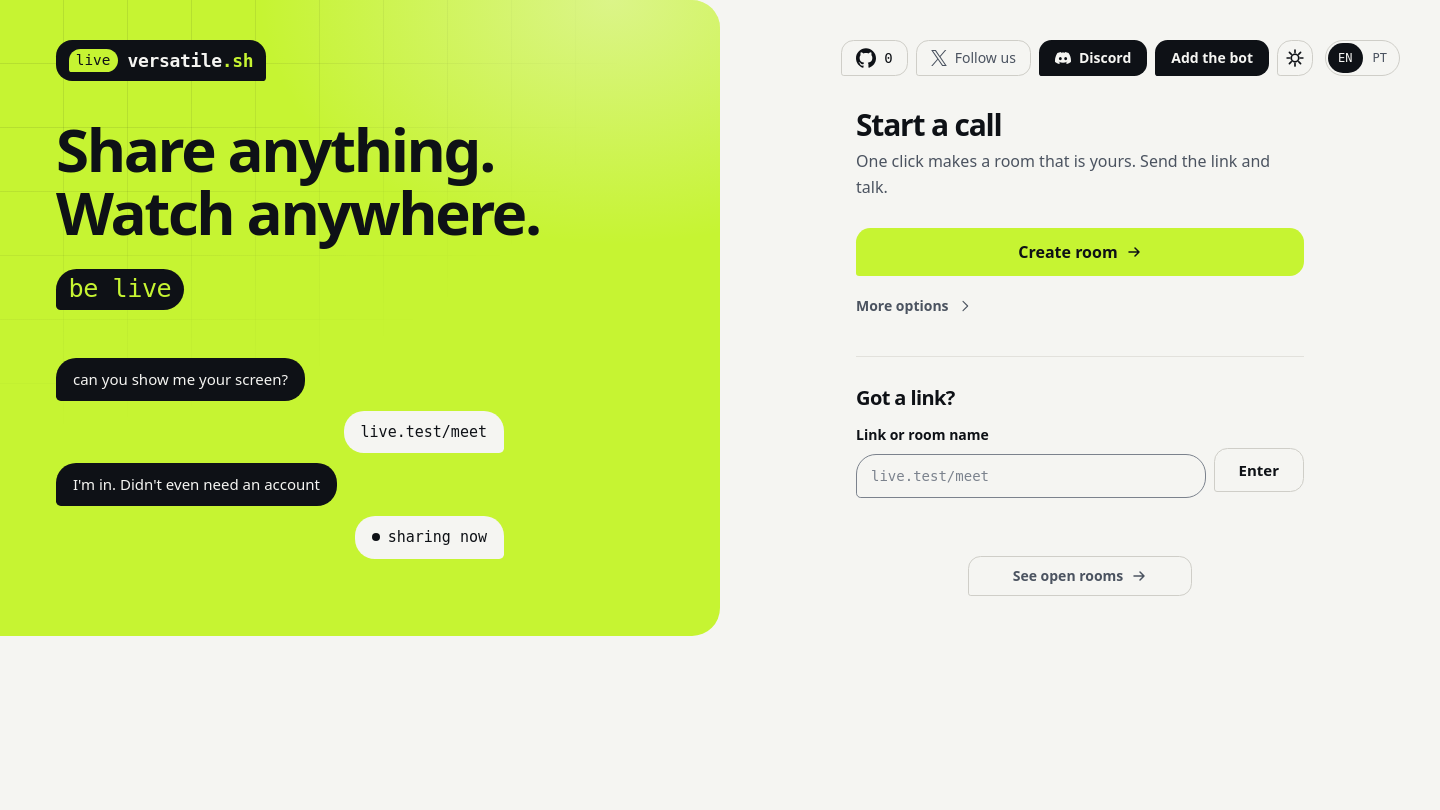
Scenario: HomePage › More options › hide on a second click of the toggle, which keeps focus
The image size is (1440, 810).
Step 1. Click the button "More options" → [914, 306], box [840,288,989,324]
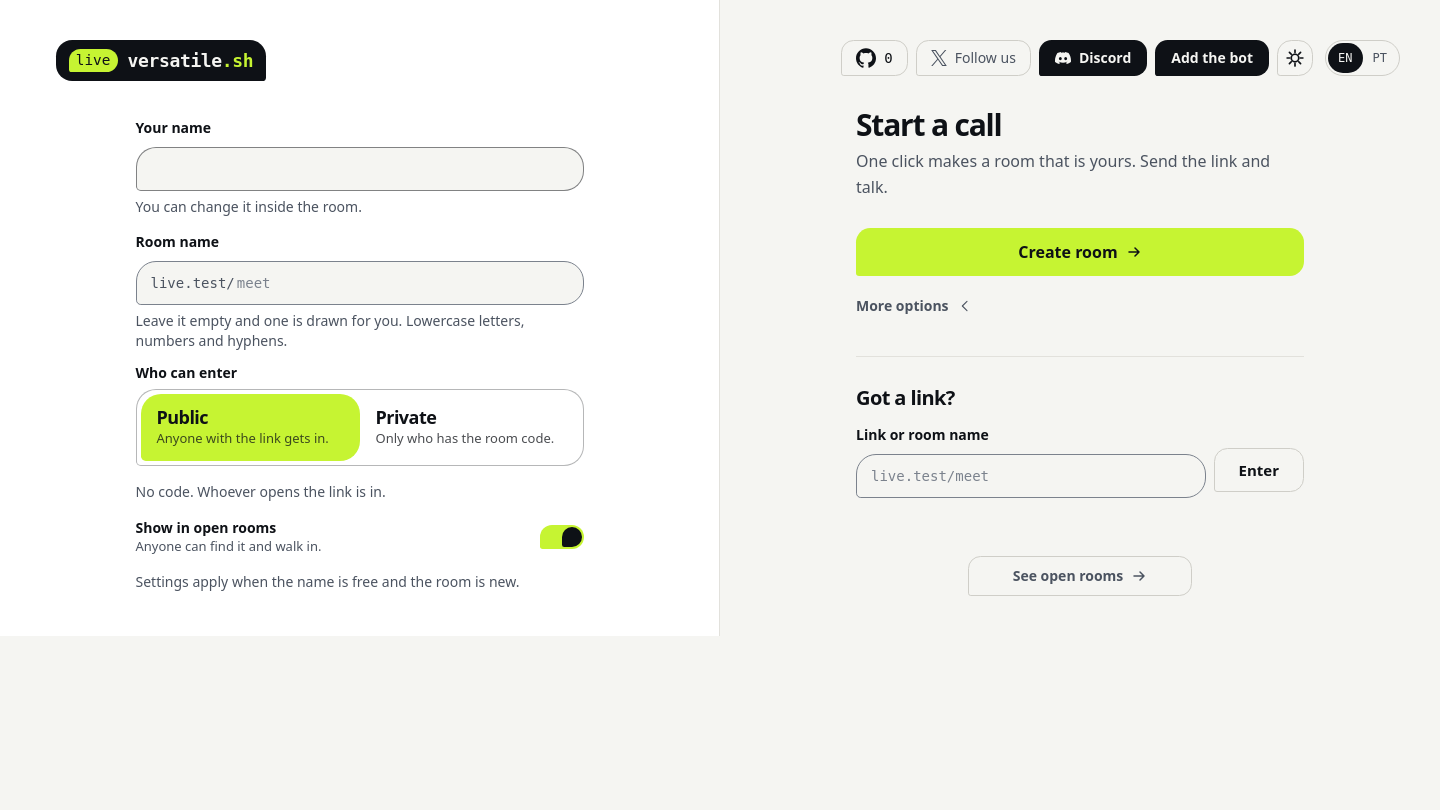
Step 2. Click the button "More options" → [914, 306], box [840,288,989,324]
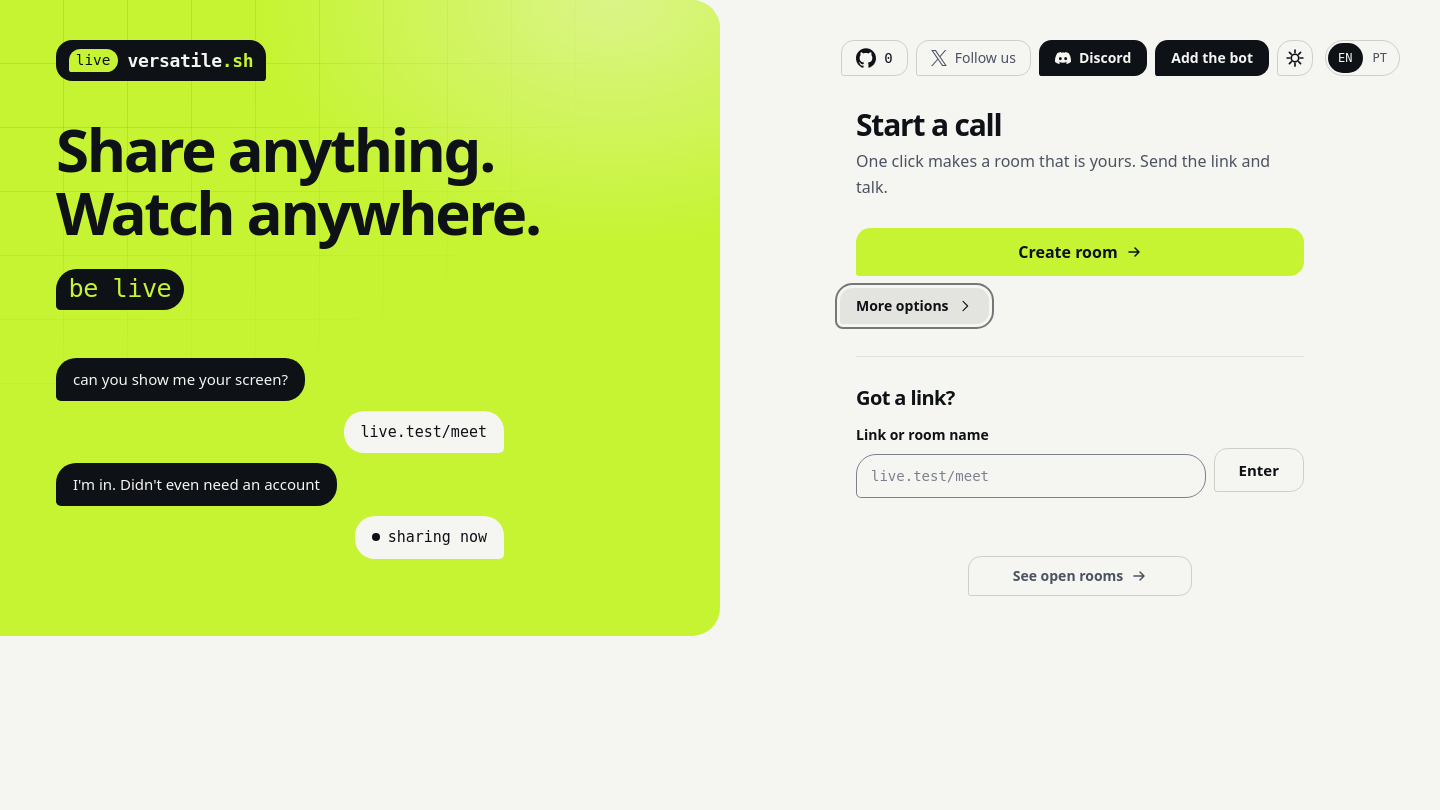
Result: the button "More options" is collapsed at [840,288,989,324]
